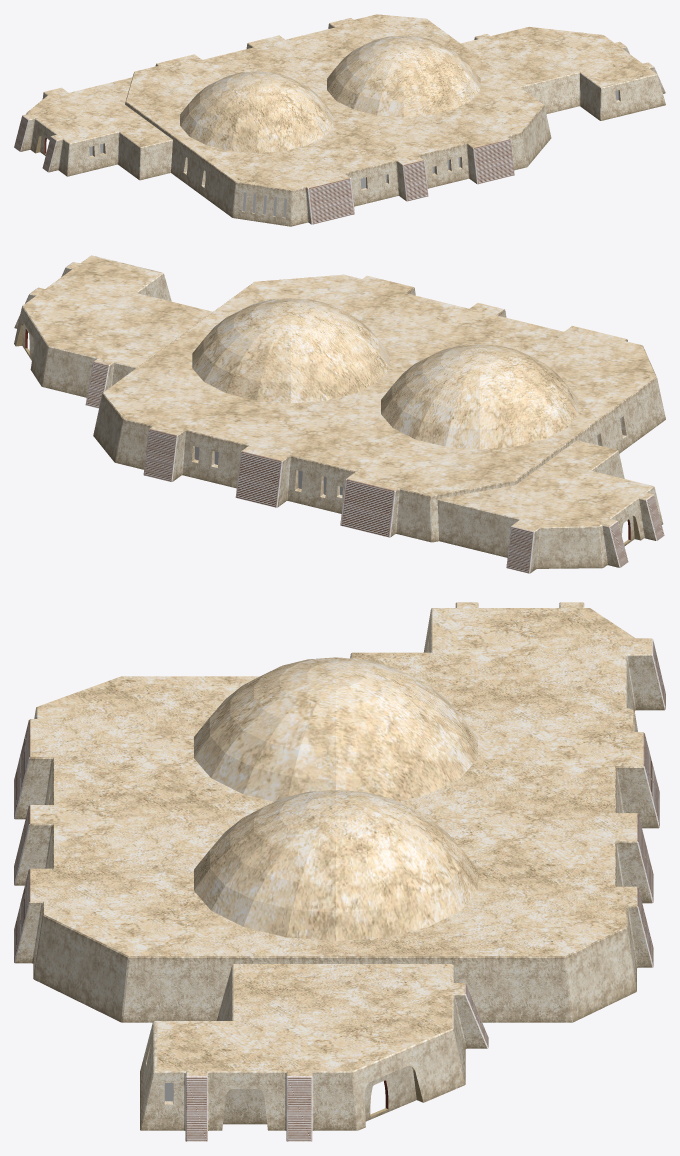
File: thm_tato_cantina_r0_mesh_r0_l1.fbx
The picture shows the model from 3 angles, top to bottom: view 1: azimuth 30°, elevation 25°; view 2: azimuth 150°, elevation 25°; view 3: azimuth 270°, elevation 25°; orthographic projection. The views are drawn at different scales.
Visible parts, largest first — view 1: mesh_node; view 2: mesh_node; view 3: mesh_node.
Part boxes in pixels (left/top/right/bottom): mesh_node: left=14, top=14, right=665, bottom=226; mesh_node: left=14, top=255, right=665, bottom=573; mesh_node: left=14, top=602, right=665, bottom=1141.
Bounding box in the file's own units: 106 × 13.74 × 59.37.
